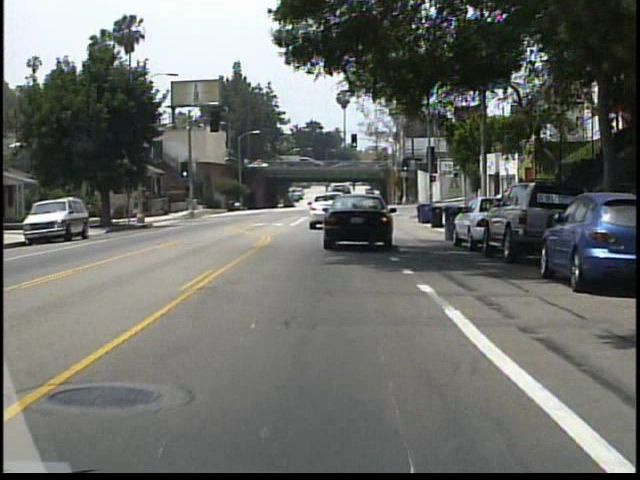person: (88, 200, 99, 227)
